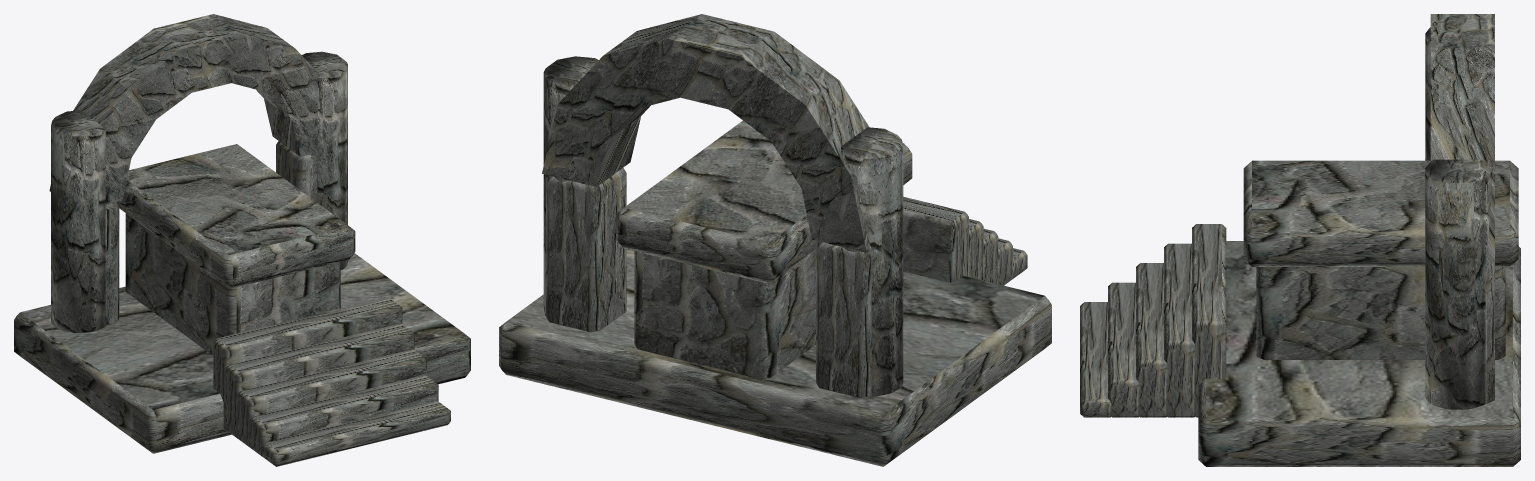
File: env-site-tomb-mobile.glb
3 renders of one model, left to right at view 1: azimuth 30°, elevation 25°; view 2: azimuth 150°, elevation 25°; view 3: azimuth 270°, elevation 25°, orthographic. The views are drawn at different scales.
Parts seen in each view (by area): view 1: site tomb · authored textured miniature; view 2: site tomb · authored textured miniature; view 3: site tomb · authored textured miniature.
Part boxes in pixels (<box>): site tomb · authored textured miniature: <box>14,14,470,466</box>; site tomb · authored textured miniature: <box>499,14,1051,466</box>; site tomb · authored textured miniature: <box>1080,14,1520,466</box>.
Size of the model in its own units: 1 by 0.8946 by 1.03.
Materials: 1 (1 with a texture image).
